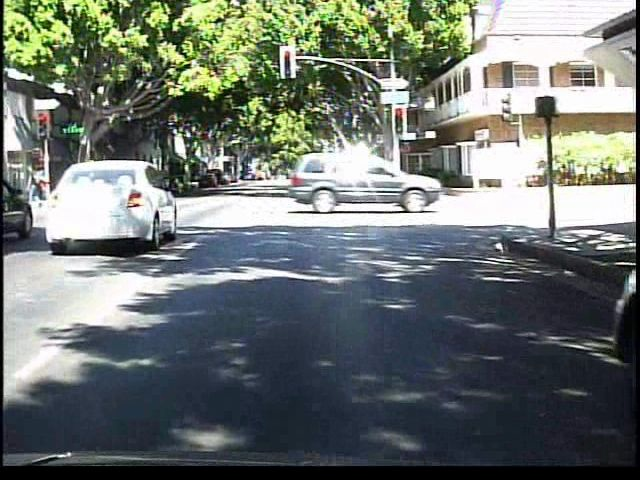person: (27, 163, 56, 206)
